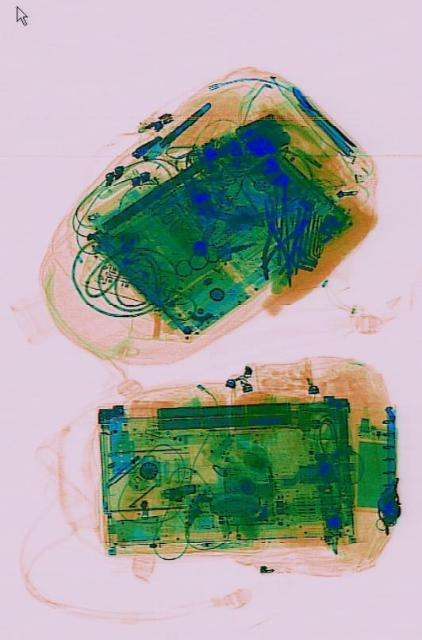Pliers: (258, 208, 312, 284), (251, 192, 291, 292)
